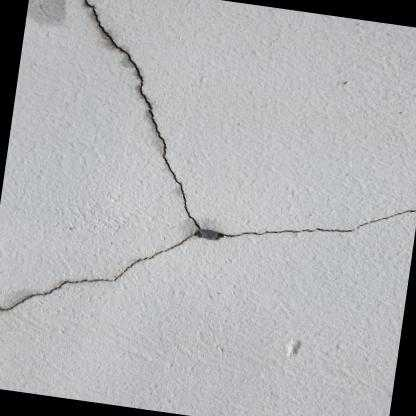crack: (0, 0, 416, 310)
